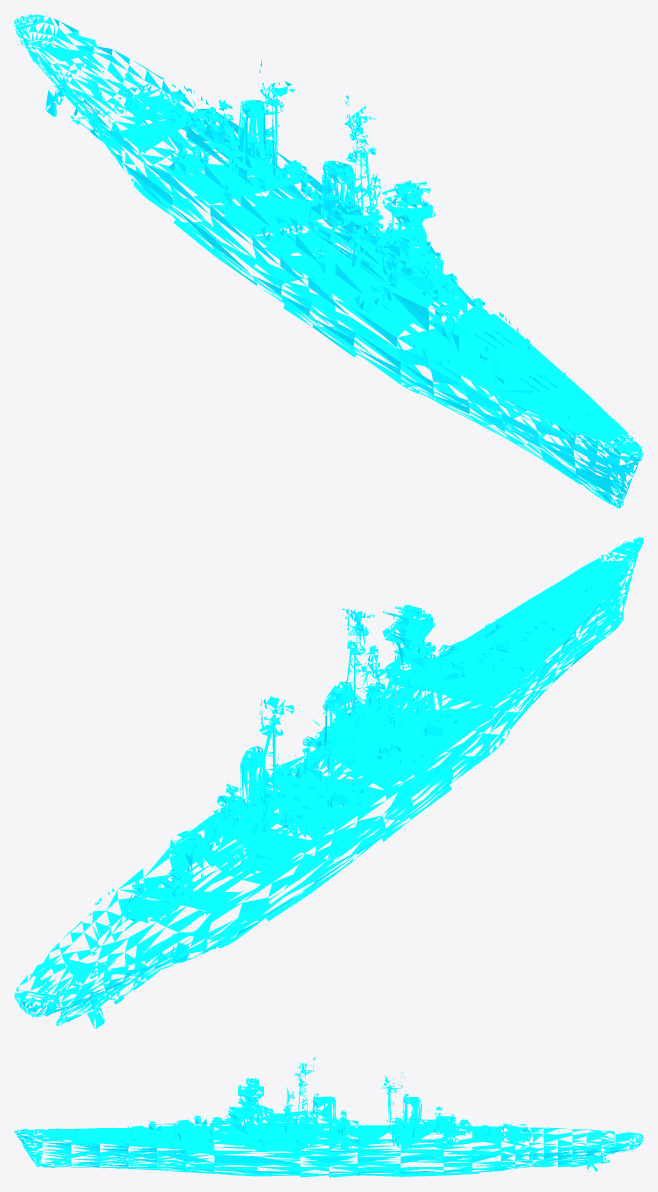
File: Novosibirsk.glb
The picture shows the model from 3 angles, top to bottom: view 1: azimuth 30°, elevation 25°; view 2: azimuth 150°, elevation 25°; view 3: azimuth 270°, elevation 25°; orthographic projection. The views are drawn at different scales.
Bounding box in the file's own units: 1.65 × 3.19 × 16.62.
